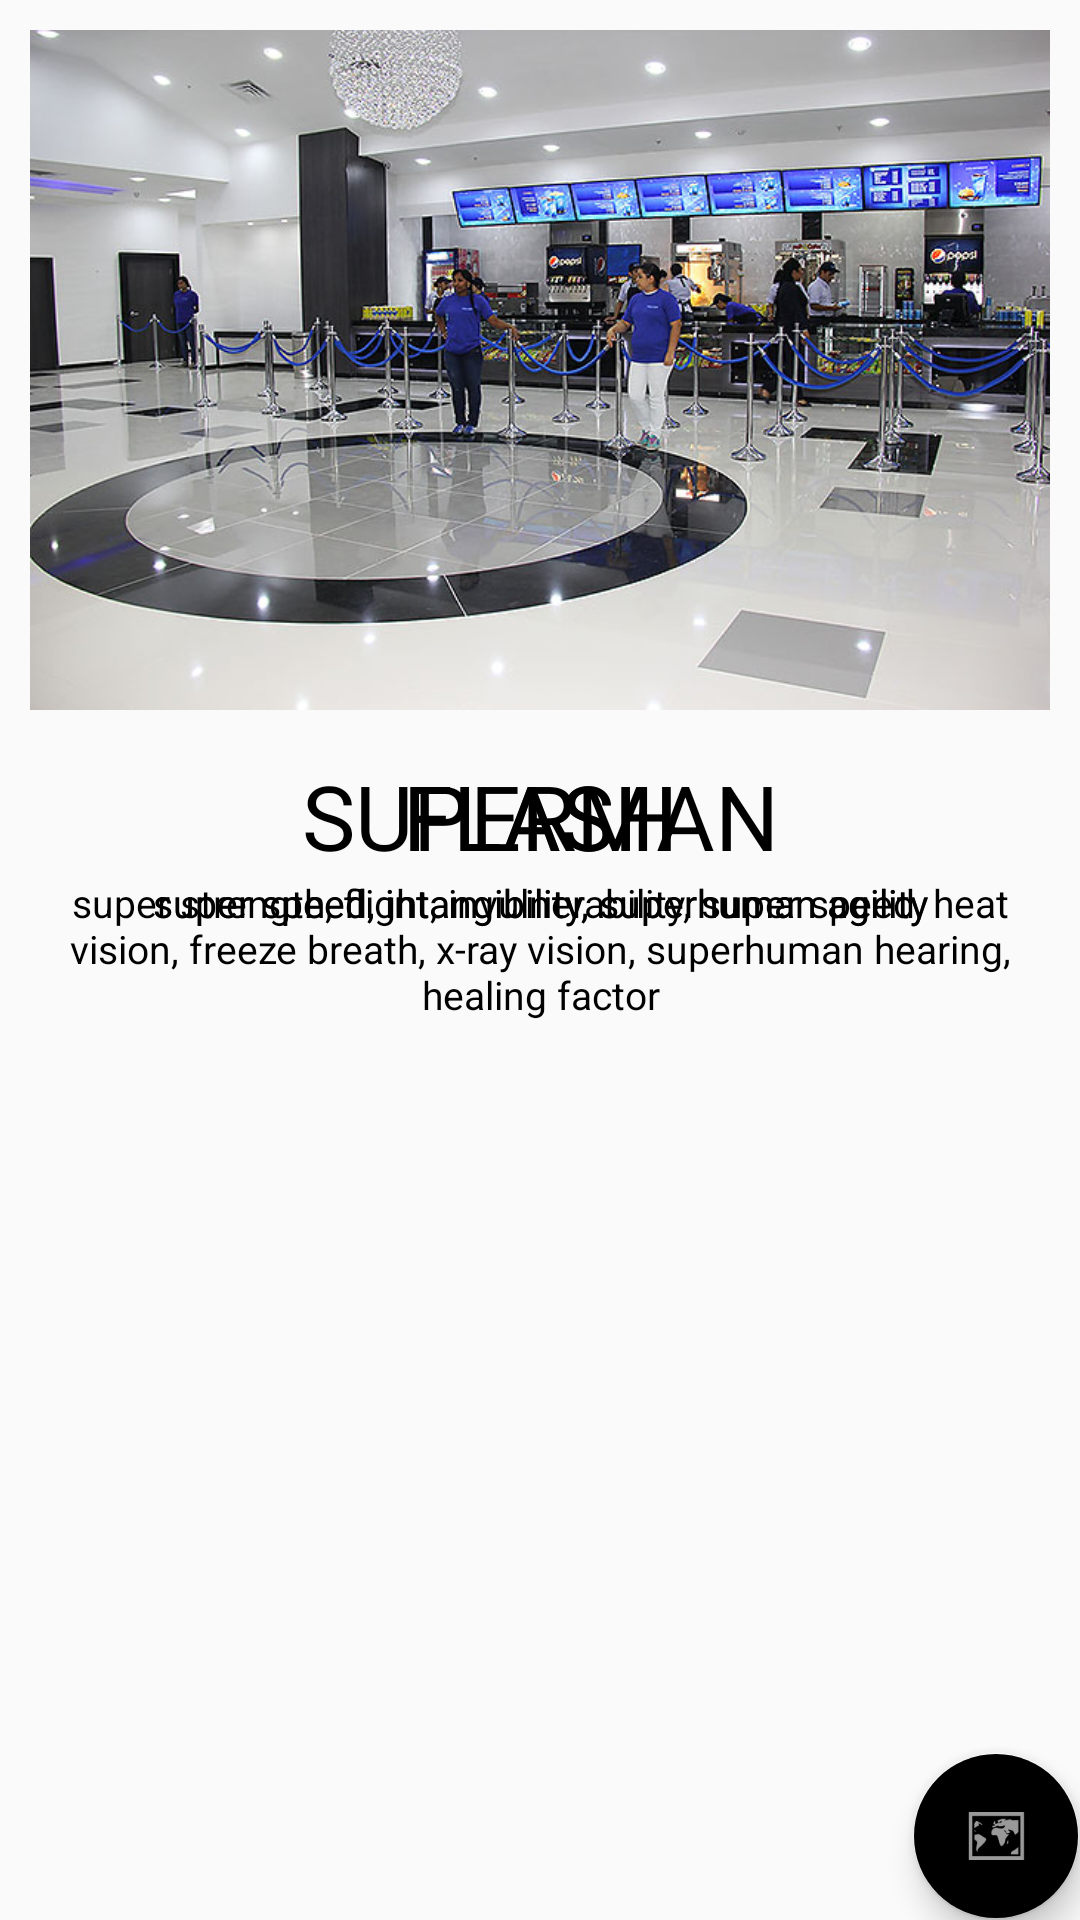

Point at icon controls on the screen. Image size 1080w x 1920h, points as point (x, y).
mapmode: point (997, 1837)
